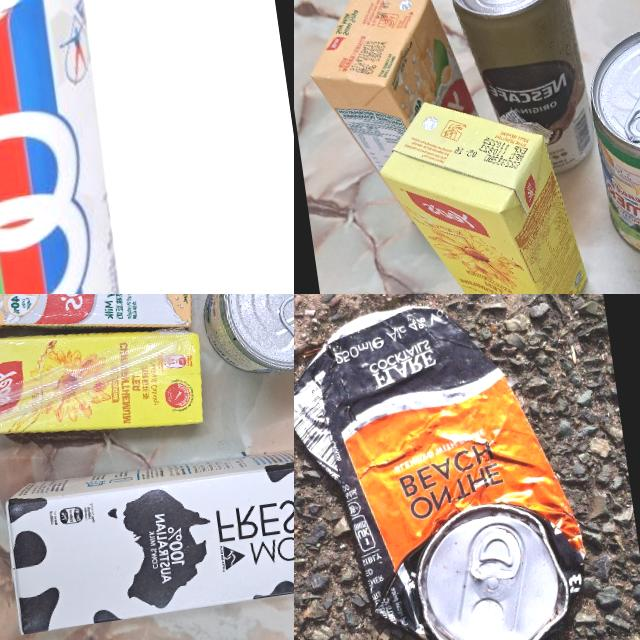aba de lata: (467, 525, 526, 585), (619, 79, 640, 145), (277, 294, 294, 358)
caixinha: (0, 432, 294, 634), (371, 81, 599, 294), (298, 0, 484, 178), (0, 306, 210, 456), (0, 294, 199, 356)
lata: (294, 294, 602, 640), (0, 0, 157, 294), (442, 0, 598, 184), (581, 9, 640, 272), (195, 294, 294, 385)
